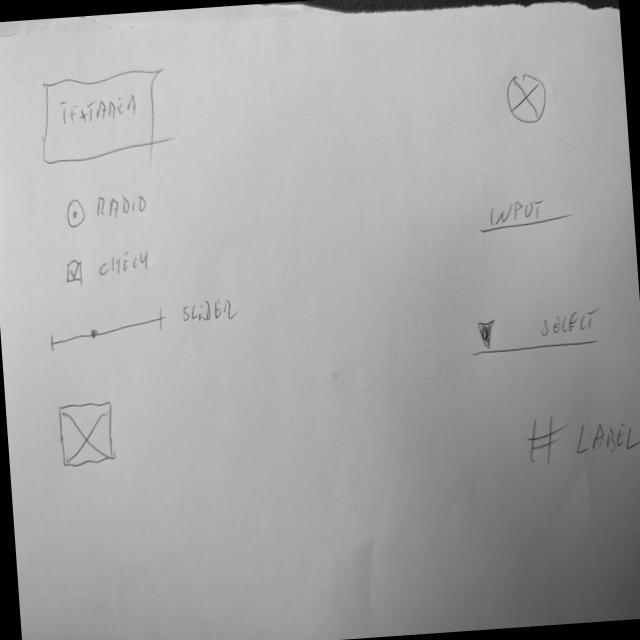checkbox: (62, 244, 152, 284)
image: (55, 397, 118, 470), (503, 66, 549, 126)
input: (476, 190, 576, 238)
label: (523, 406, 640, 469)
radio: (63, 190, 150, 230)
slider: (44, 304, 168, 353)
